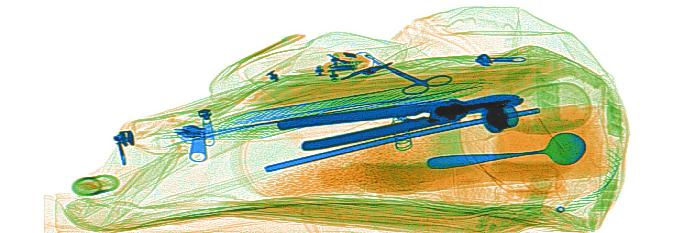scissors: (276, 93, 513, 150), (377, 60, 453, 98)
